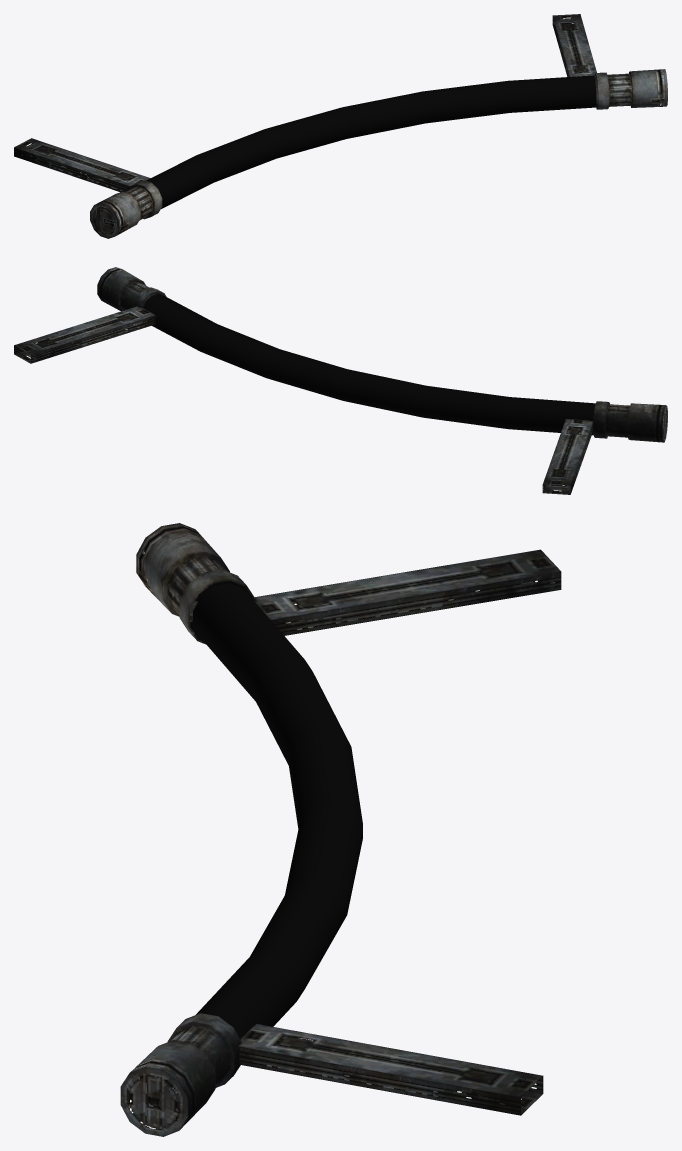
Rendered from fluorescent_tube_curved_special.dae.
The picture shows the model from 3 angles, top to bottom: view 1: azimuth 30°, elevation 25°; view 2: azimuth 150°, elevation 25°; view 3: azimuth 270°, elevation 25°; orthographic projection. The views are drawn at different scales.
Parts seen in each view (by area): view 1: Mesh__2_; view 2: Mesh__2_; view 3: Mesh__2_.
Boxes of the visible parts, x1=… form: Mesh__2_: x1=14, y1=14, x2=667, y2=238; Mesh__2_: x1=14, y1=267, x2=667, y2=494; Mesh__2_: x1=120, y1=523, x2=561, y2=1136.
Size of the model in its own units: 1.75 by 0.098 by 0.5861.
